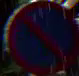No Stopping: (4, 0, 78, 75)
